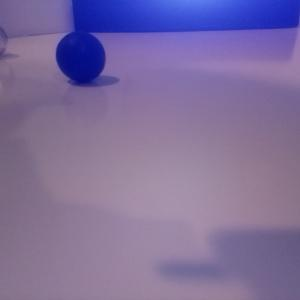alive_ball: (1, 28, 8, 55)
dead_ball: (56, 30, 106, 82)
